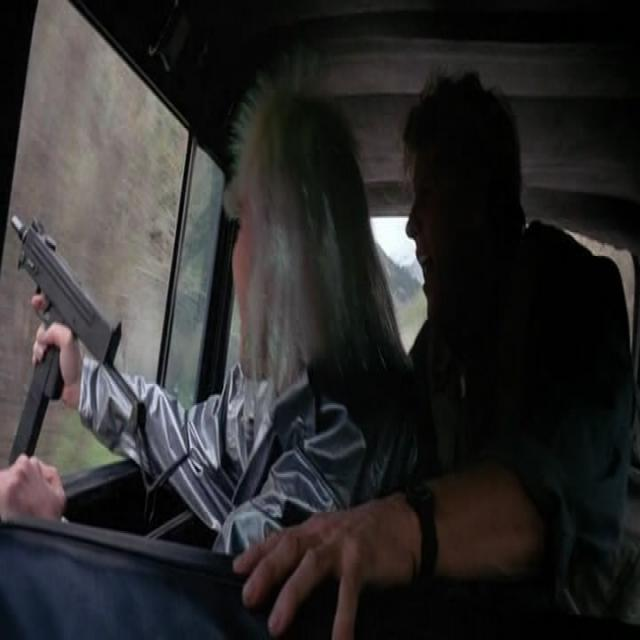gun-knife-thesis - v11 Yolov5 augmented: (0, 196, 127, 481)
